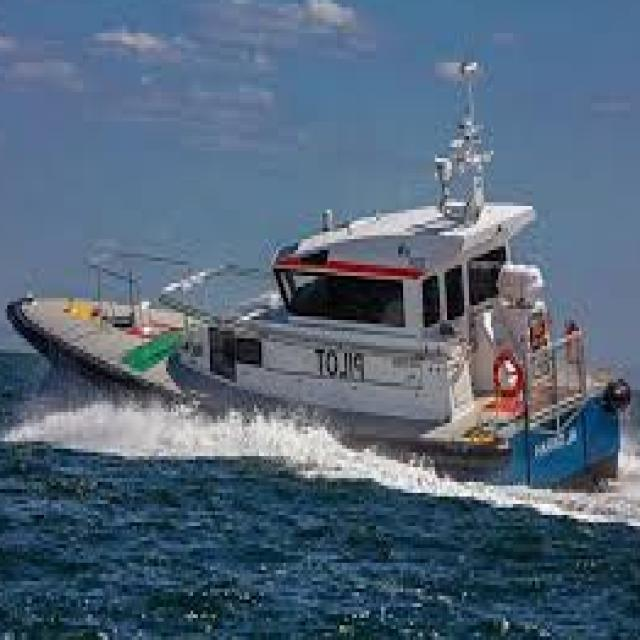houseboat: (7, 55, 634, 495)
